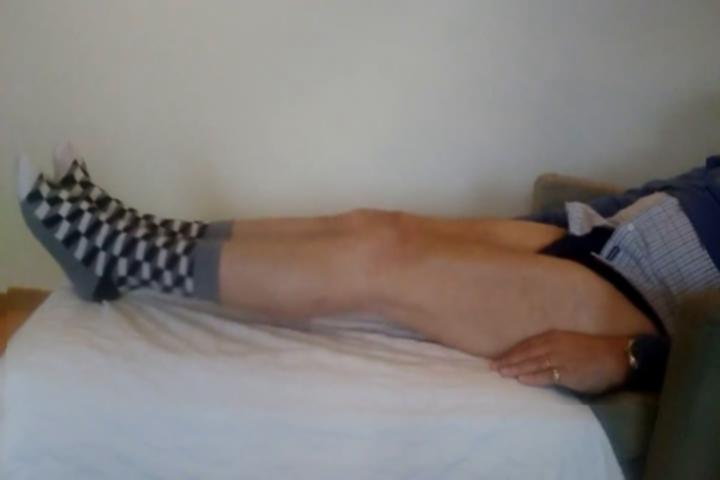lowerbody: (8, 127, 706, 405)
